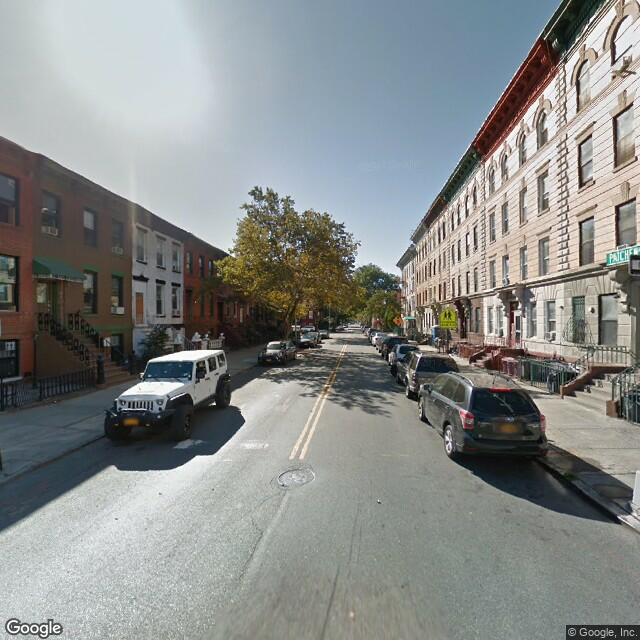litter: (373, 498, 387, 505)
